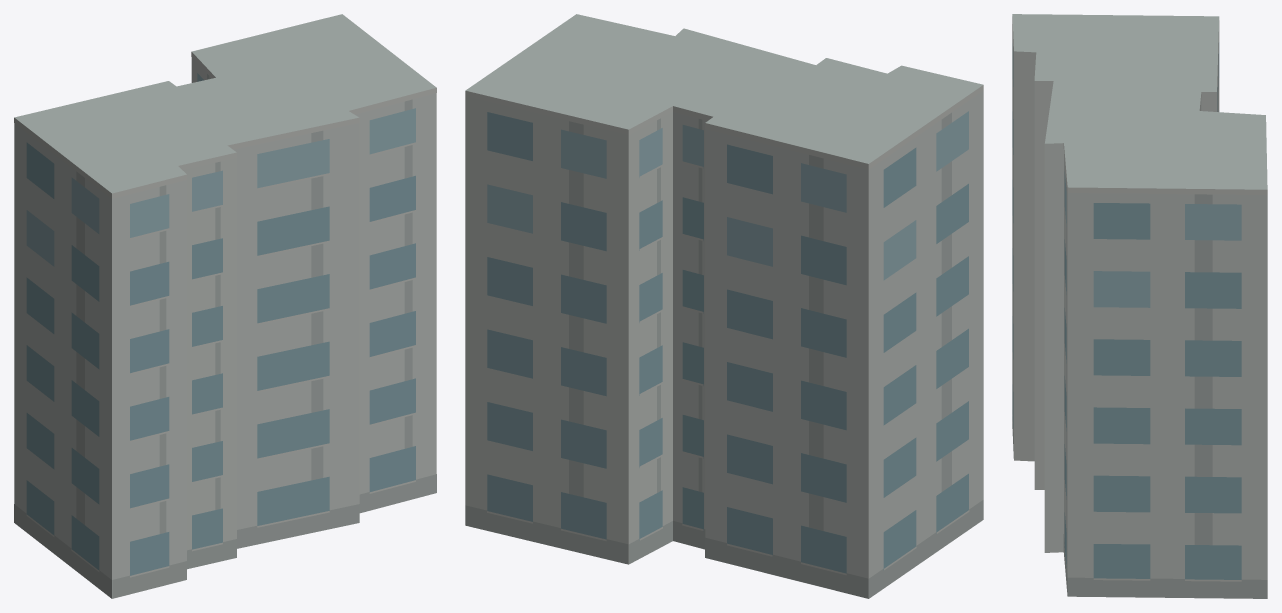
File: survey-upis-32646614.glb
3 renders of one model, left to right at view 1: azimuth 30°, elevation 25°; view 2: azimuth 150°, elevation 25°; view 3: azimuth 270°, elevation 25°, orthographic. The views are drawn at different scales.
Visible parts, largest first — view 1: survey-upis-32646614.tmp; view 2: survey-upis-32646614.tmp; view 3: survey-upis-32646614.tmp.
Boxes of the visible parts, left/top/right/bottom form: survey-upis-32646614.tmp: left=14, top=14, right=436, bottom=598; survey-upis-32646614.tmp: left=465, top=14, right=983, bottom=598; survey-upis-32646614.tmp: left=1012, top=14, right=1267, bottom=598.
Bounding box in the file's own units: 16.86 × 18.3 × 10.36.
